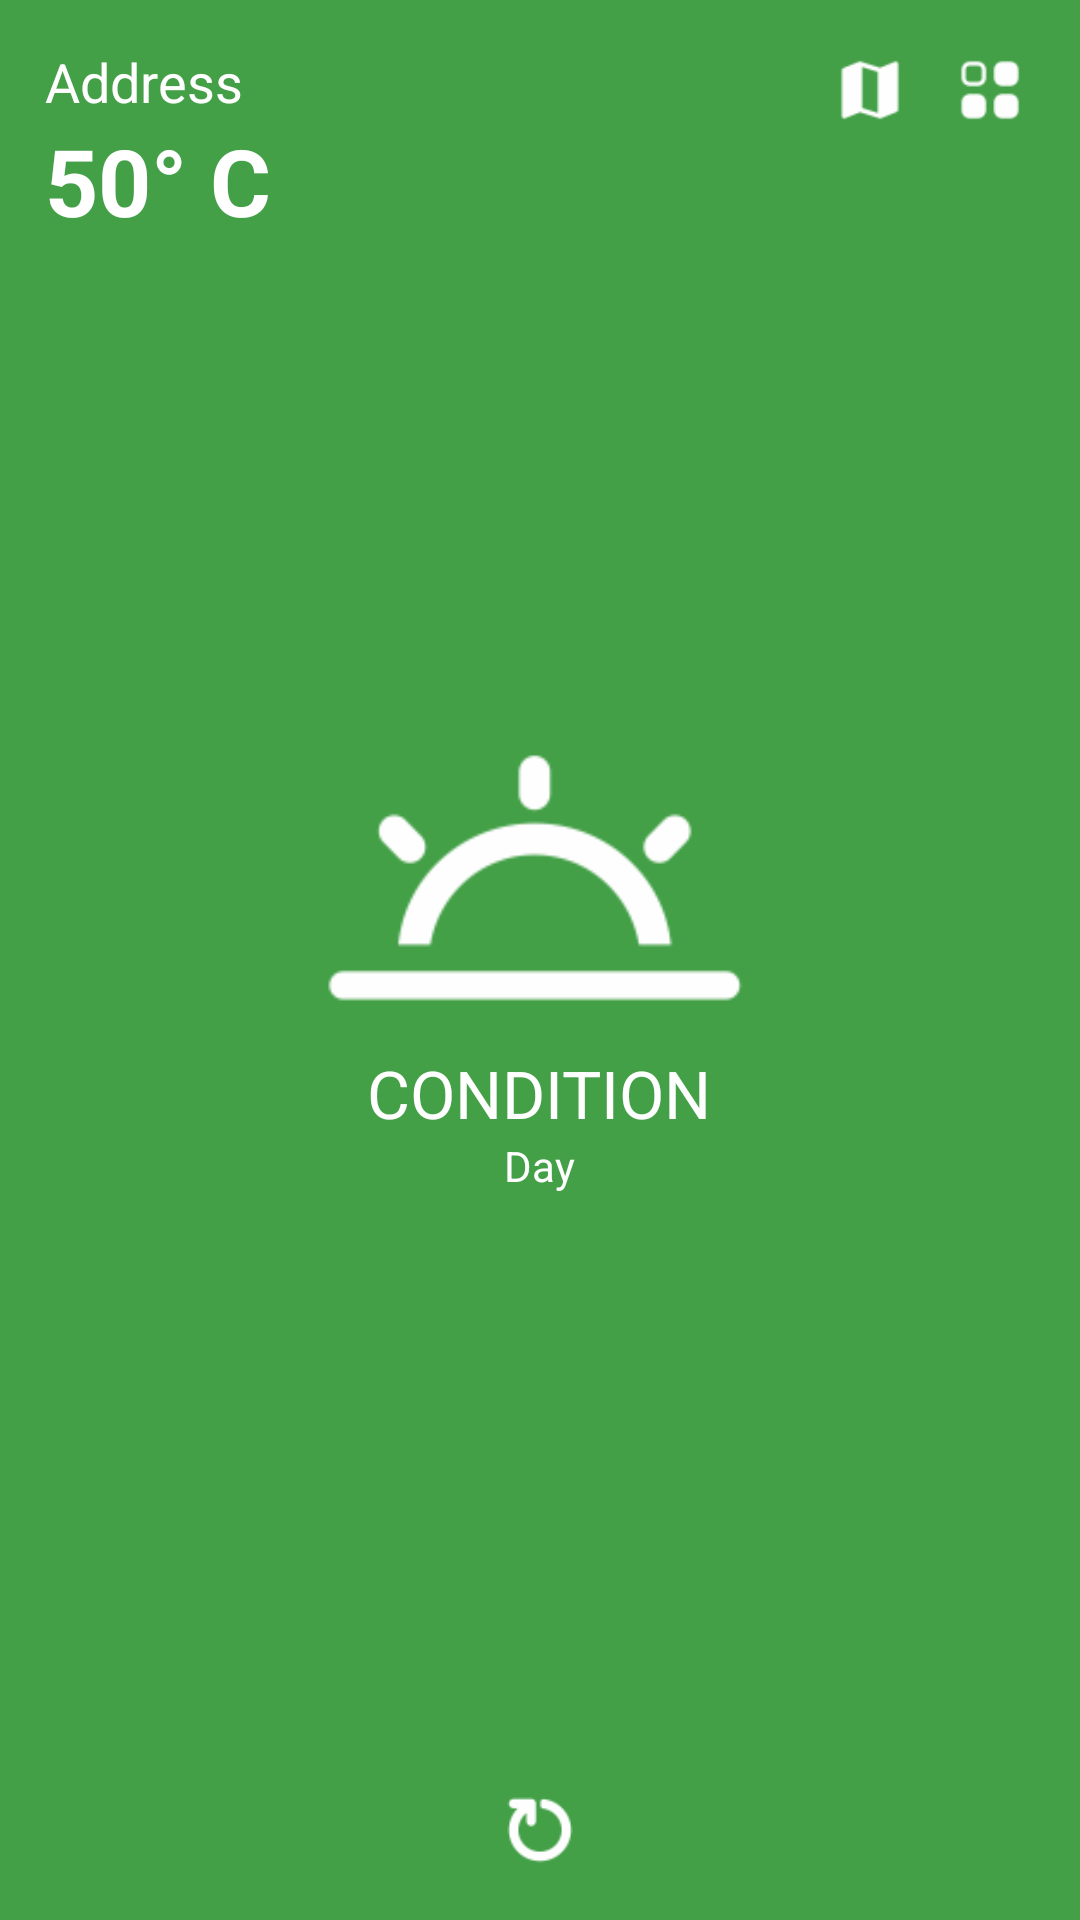

Icons on this 1080 x 1920 Android screen, each with its box as (x1, y1, x2, y2):
map: (841, 61, 899, 119)
refresh: (508, 1798, 572, 1862)
theme: (961, 61, 1019, 119)
